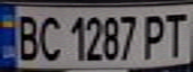1: (63, 11, 84, 62)
2: (81, 11, 106, 62)
7: (118, 11, 142, 61)
8: (103, 11, 124, 62)
B: (9, 10, 42, 62)
C: (33, 11, 63, 62)
P: (139, 11, 172, 61)
T: (160, 9, 193, 58)
